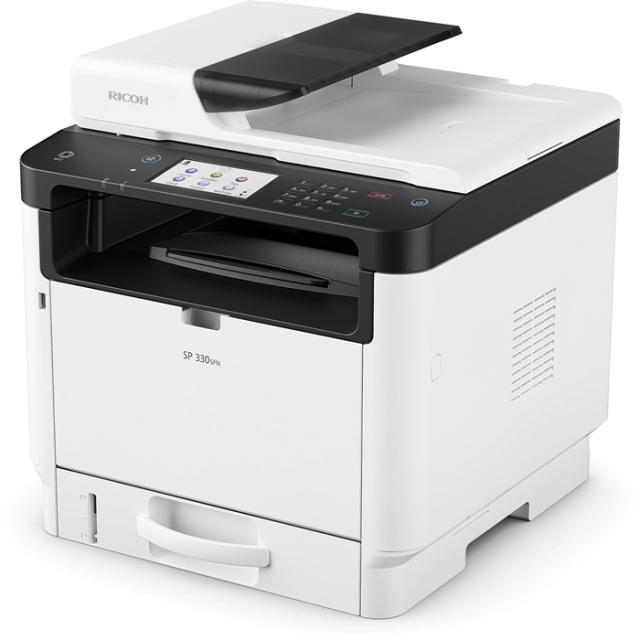printer: (18, 0, 621, 620)
